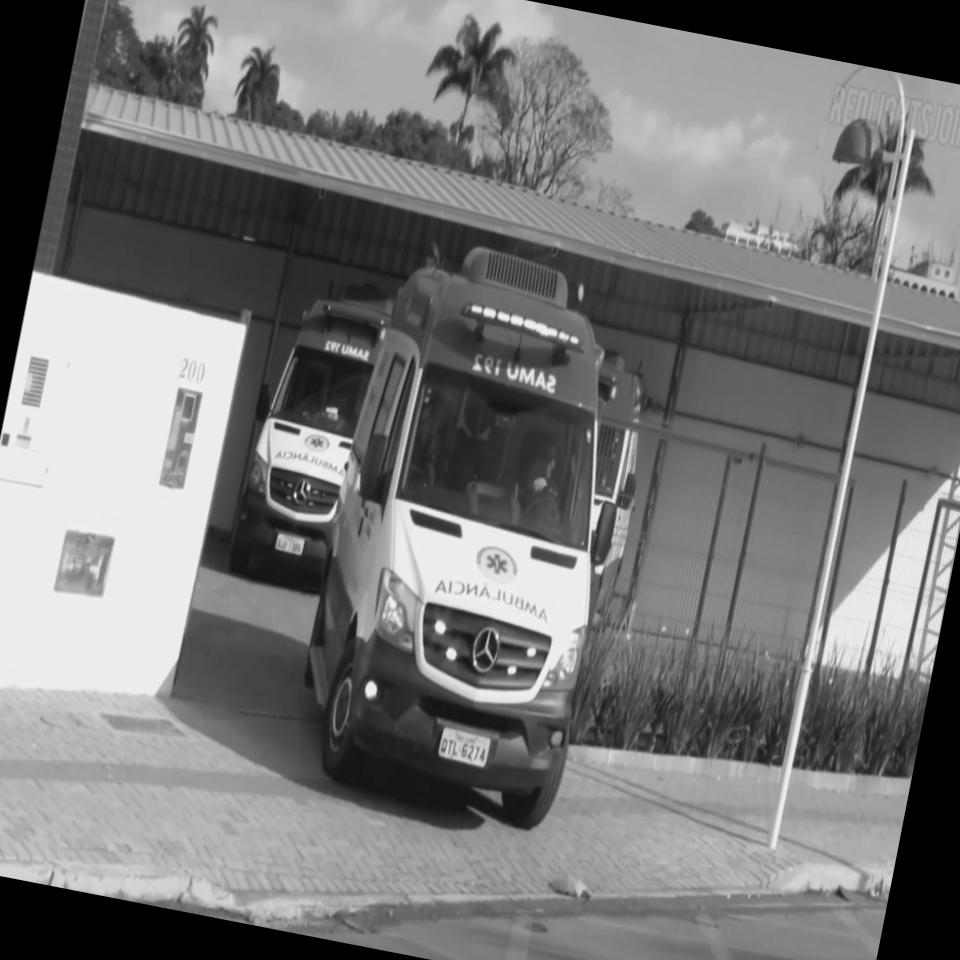bombeiro: (282, 224, 664, 836), (222, 261, 396, 595)
